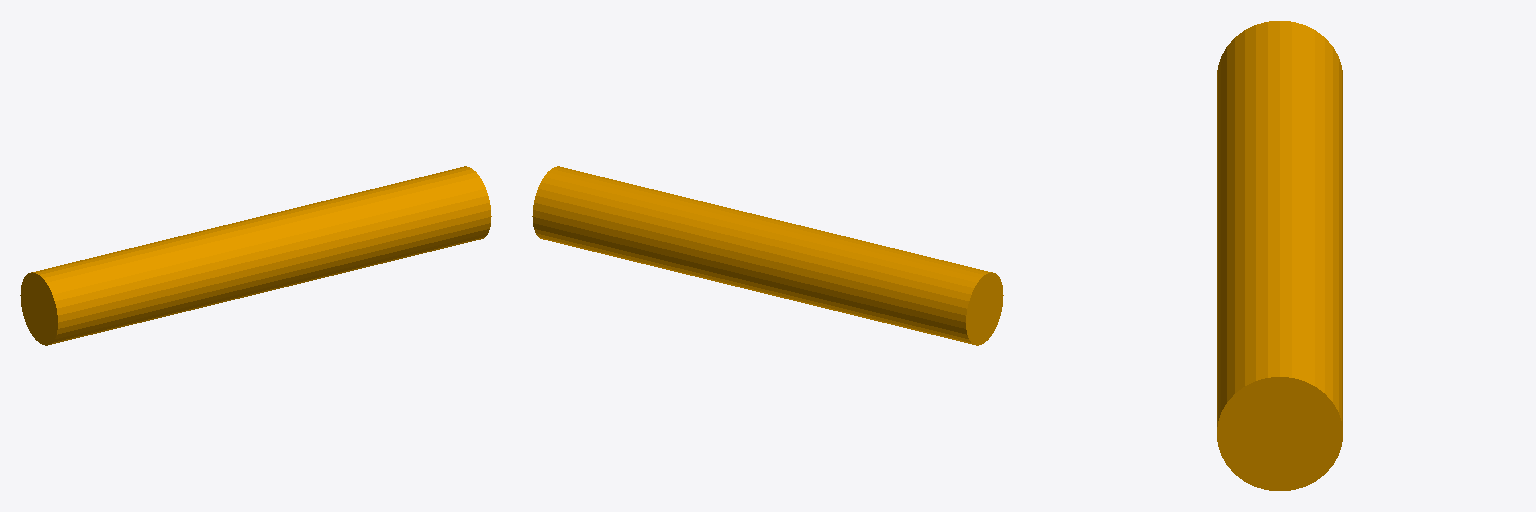
URDF robot description (Tube1):
<?xml version="1.0"?>
<robot name="Tube1">
  <link name="Tube1_link">
    <inertial>
      <origin xyz="0 0 0" /> 
      <mass value="0.1" />
      <inertia  ixx="1.0" ixy="0.0"  ixz="0.0"  iyy="1.0"  iyz="0.0"  izz="1.0" />
    </inertial>
    <visual>
      <origin xyz="0 0 0" rpy="0 1.57 0"/>
      <geometry>
        <cylinder radius="0.15" length="2.0"/>
      </geometry>
    </visual>
    <collision>
      <origin xyz="0 0 0" rpy="0 1.57 0"/>
      <geometry>
        <cylinder radius="0.15" length="2.0"/>
      </geometry>
    </collision>
  </link>
  <gazebo reference="Tube1_link">
    <material>PR2/Black</material>
    <turnGravityOff>true</turnGravityOff>
  </gazebo>
</robot>

--- Render facts (derived) ---
The picture shows the robot from 3 angles, left to right: view 1: azimuth 30°, elevation 25°; view 2: azimuth 150°, elevation 25°; view 3: azimuth 270°, elevation 25°; orthographic projection.
Model Tube1 with 1 links and 0 joints (none), rooted at Tube1_link, posed every joint at zero.
Links seen in each view (by area): view 1: Tube1_link; view 2: Tube1_link; view 3: Tube1_link.
Boxes of the visible links, x1=… form: Tube1_link: x1=20, y1=166, x2=491, y2=345; Tube1_link: x1=532, y1=166, x2=1003, y2=345; Tube1_link: x1=1217, y1=21, x2=1342, y2=490.
Bounding box of the posed robot: 2 × 0.3 × 0.3016 m (x, y, z).
Geometry: primitives only (box / cylinder / sphere), no mesh files.